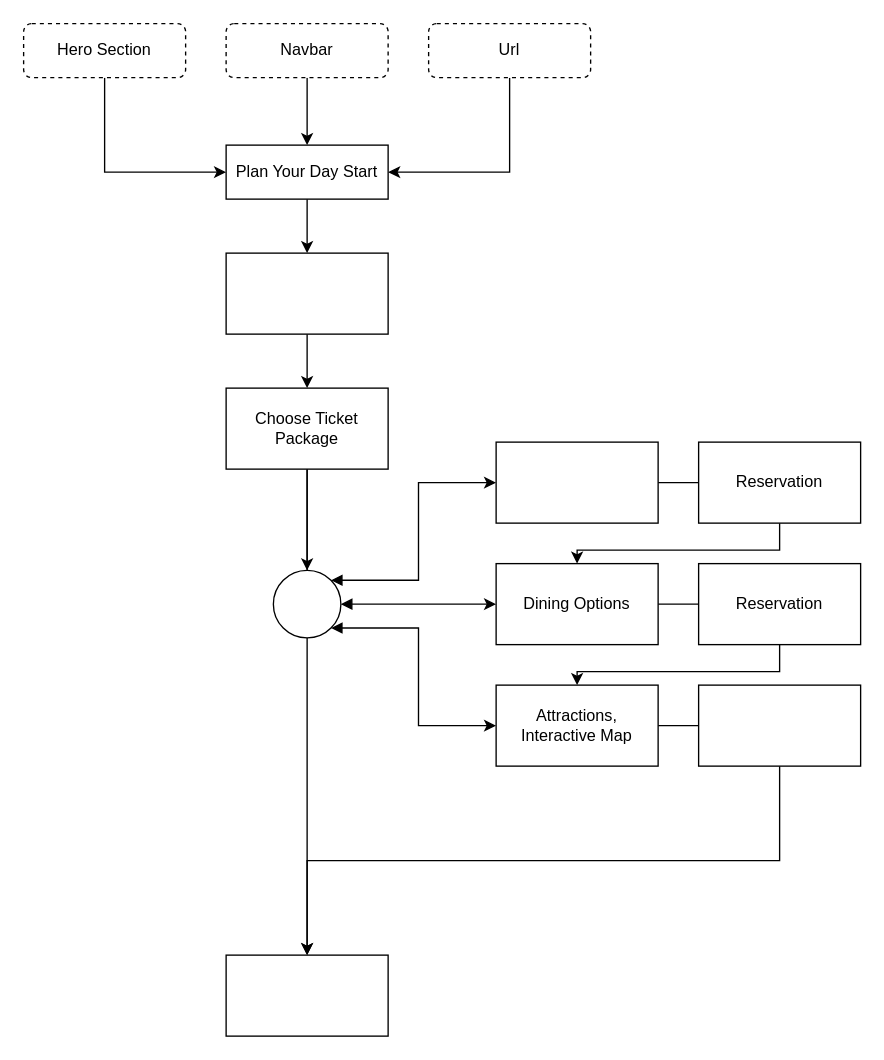
This 884x1060 diagram has some shape labels left out. Each missing label, with the centre of its shape:
Bookmark: pixel 779 725
Checkout: pixel 306 995
Date and Party form: pixel 306 293
Explore Park:: pixel 306 603
Shows and Events: pixel 576 482
